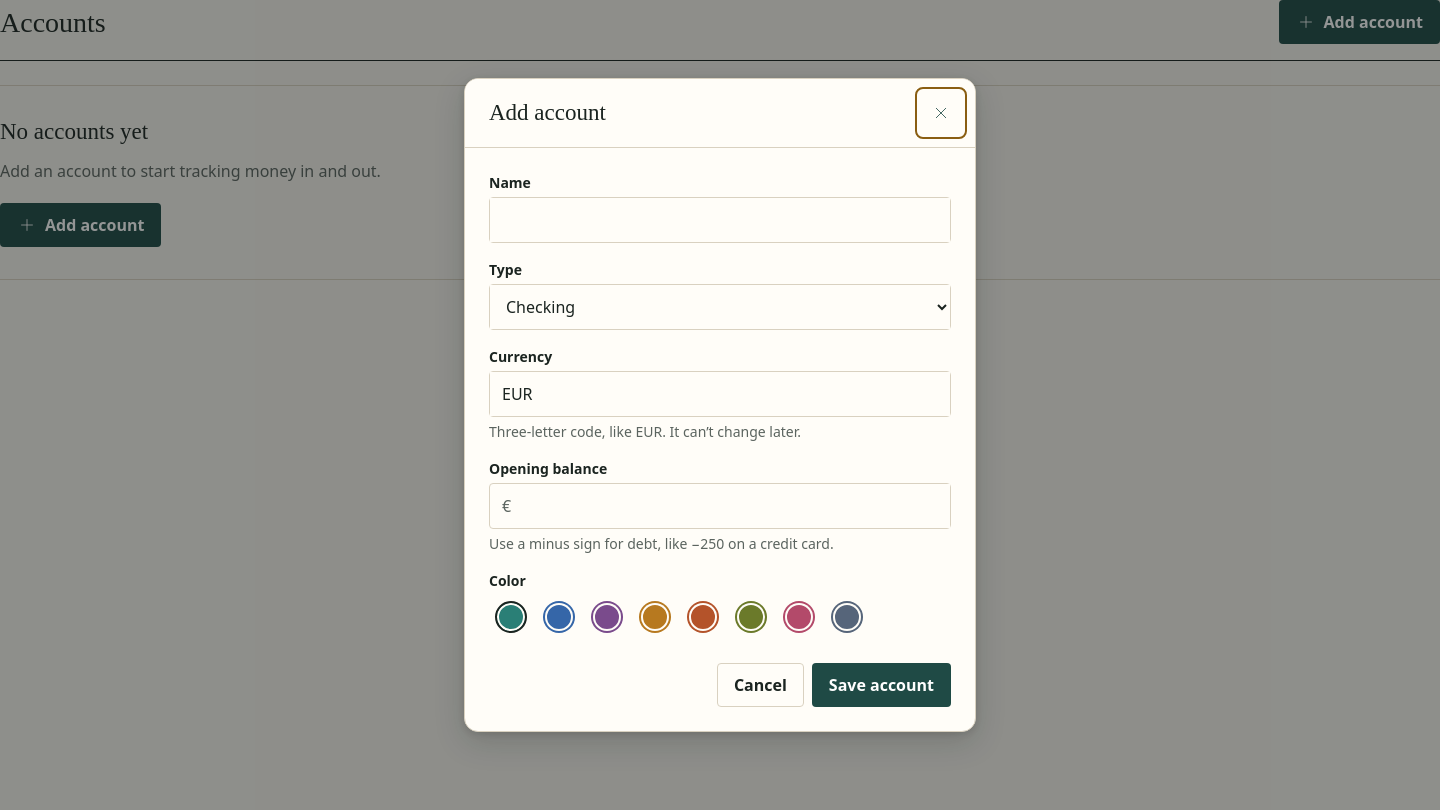
Test: AccountsPage › opens the add dialog on /accounts/new and returns to /accounts when closed
Step 1. Click the button "Cancel" → (760, 685), box 717,663 -> 804,707
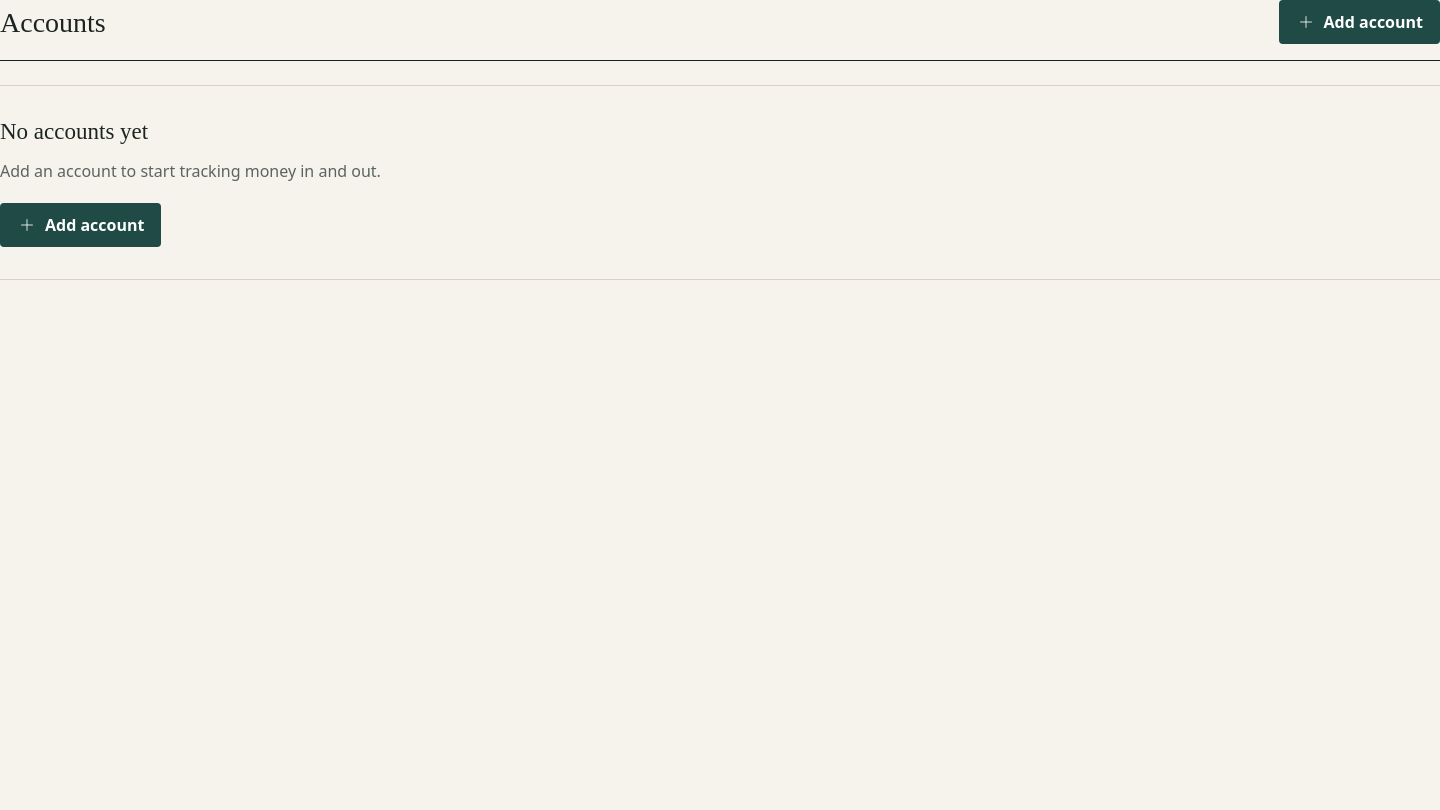
Now the dialog is gone
